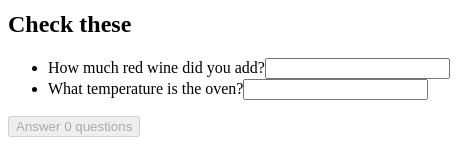
it: GapsPanel › counts what will be sent
Step 1. Type "150ml" into the field labelled "How much red wine did you add?" → (357, 68), box [265, 58, 450, 79]
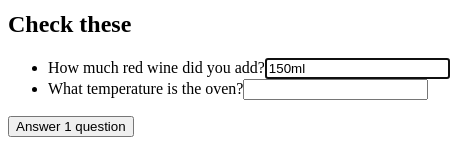
Expected: the button "Answer 1 question" is shown, [8, 116, 134, 137]
Step 2. Type "180C" into the field labelled "What temperature is the oven?" → (336, 89), box [244, 79, 428, 100]
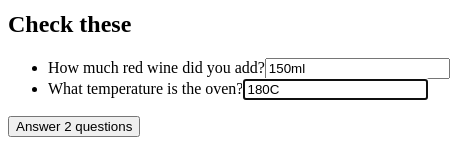
Expected: the button "Answer 2 questions" is shown, [8, 116, 140, 137]
